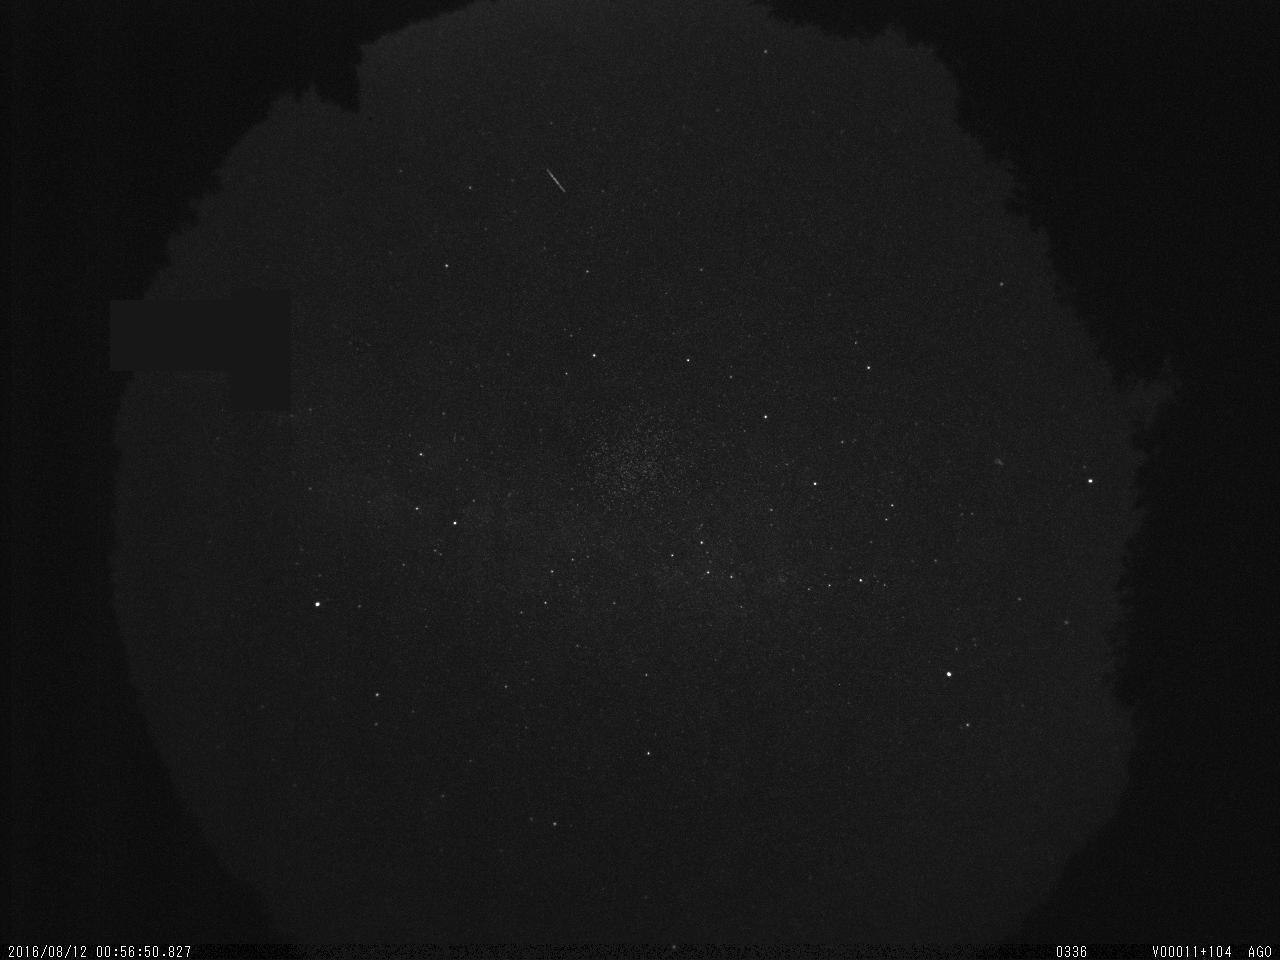Meteor: (543, 163, 567, 194)
